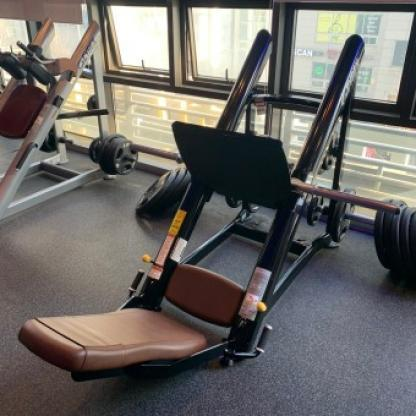leg press: (18, 17, 390, 387)
